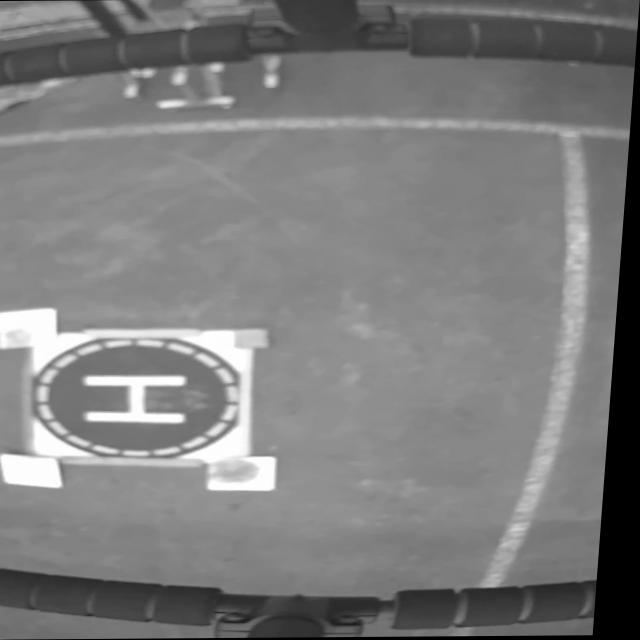Helipad: (89, 374, 193, 423)
